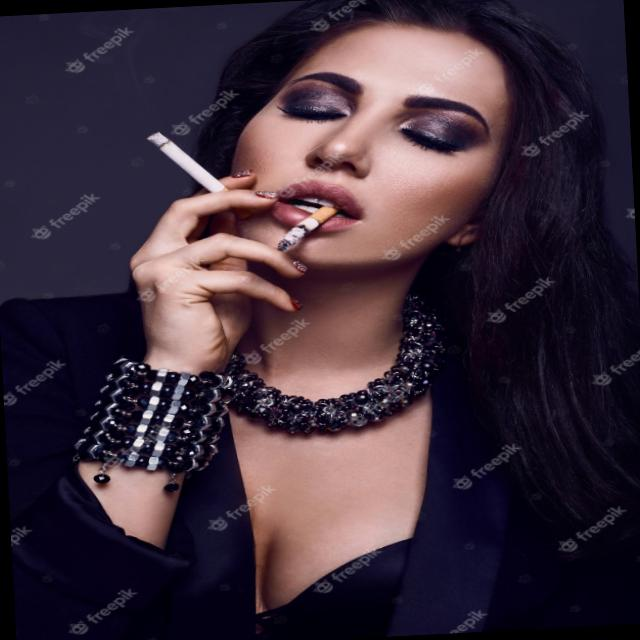cigarette: (141, 126, 239, 201), (270, 202, 347, 255)
